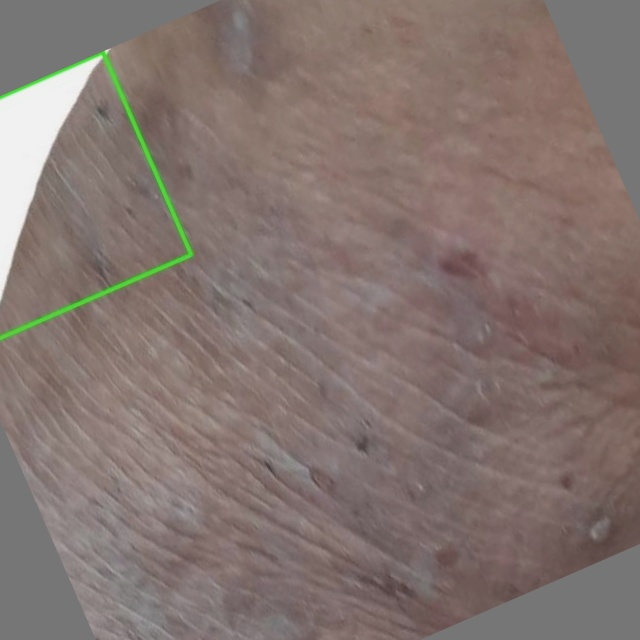Contact Dermatitis: (0, 52, 191, 337)
